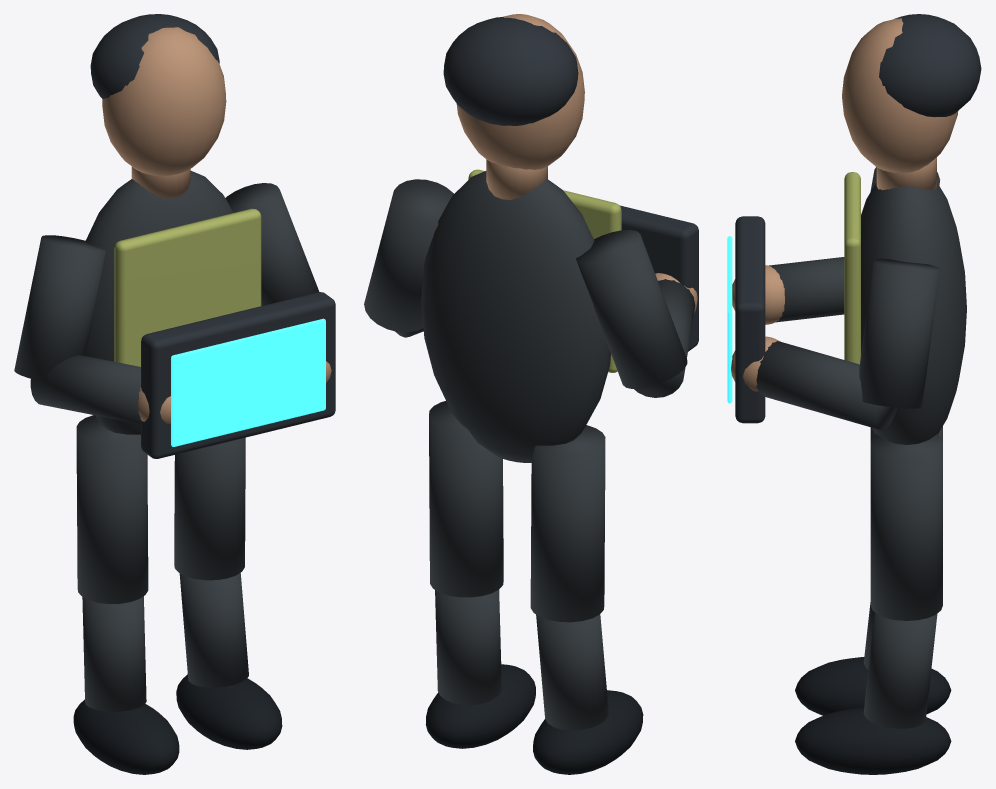
File: engineer.glb
The picture shows the model from 3 angles, left to right: view 1: azimuth 30°, elevation 25°; view 2: azimuth 150°, elevation 25°; view 3: azimuth 270°, elevation 25°; orthographic projection. The views are drawn at different scales.
Visible parts, largest first — view 1: legL_cloth.001, legR_cloth.001, body_vest.001, body_blue.005, body_skin.001, armL_cloth.001, body_dark.044, body_cloth.001, legL_rubber.001, legR_rubber.001, armR_cloth.001, body_dark.043; view 2: body_cloth.001, legL_cloth.001, legR_cloth.001, armL_cloth.001, body_dark.043, armR_cloth.001, body_skin.001, legL_rubber.001, legR_rubber.001, body_dark.044, body_vest.001; view 3: legR_cloth.001, armR_cloth.001, body_cloth.001, body_skin.001, body_dark.043, legR_rubber.001, body_dark.044, legL_rubber.001, armL_cloth.001, body_vest.001, armL_skin.001, body_blue.005 (+2 smaller).
Boxes of the visible parts, x1,y1,x2,y2 form: legL_cloth.001: [76, 415, 148, 711]; legR_cloth.001: [174, 437, 248, 687]; body_vest.001: [114, 208, 261, 366]; body_blue.005: [171, 318, 325, 446]; body_skin.001: [102, 27, 226, 198]; armL_cloth.001: [14, 235, 141, 424]; body_dark.044: [141, 292, 335, 458]; body_cloth.001: [85, 171, 233, 434]; legL_rubber.001: [73, 699, 179, 774]; legR_rubber.001: [176, 674, 282, 749]; armR_cloth.001: [225, 183, 319, 305]; body_dark.043: [90, 14, 219, 99]; body_cloth.001: [421, 171, 610, 462]; legL_cloth.001: [530, 425, 608, 730]; legR_cloth.001: [429, 401, 503, 704]; armL_cloth.001: [576, 230, 695, 397]; body_dark.043: [443, 16, 578, 125]; armR_cloth.001: [364, 179, 453, 337]; body_skin.001: [456, 14, 584, 199]; legL_rubber.001: [533, 690, 643, 774]; legR_rubber.001: [425, 664, 535, 748]; body_dark.044: [620, 205, 698, 351]; body_vest.001: [468, 169, 621, 372]; legR_cloth.001: [863, 434, 942, 728]; armR_cloth.001: [756, 258, 939, 430]; body_cloth.001: [861, 182, 966, 444]; body_skin.001: [842, 18, 958, 190]; body_dark.043: [879, 14, 981, 117]; legR_rubber.001: [795, 708, 951, 774]; body_dark.044: [735, 216, 765, 423]; legL_rubber.001: [795, 657, 951, 715]; armL_cloth.001: [769, 167, 939, 322]; body_vest.001: [844, 172, 860, 364]; armL_skin.001: [732, 265, 784, 324]; body_blue.005: [727, 236, 732, 403].
Size of the model in its own units: 0.2931 by 0.662 by 0.211.
